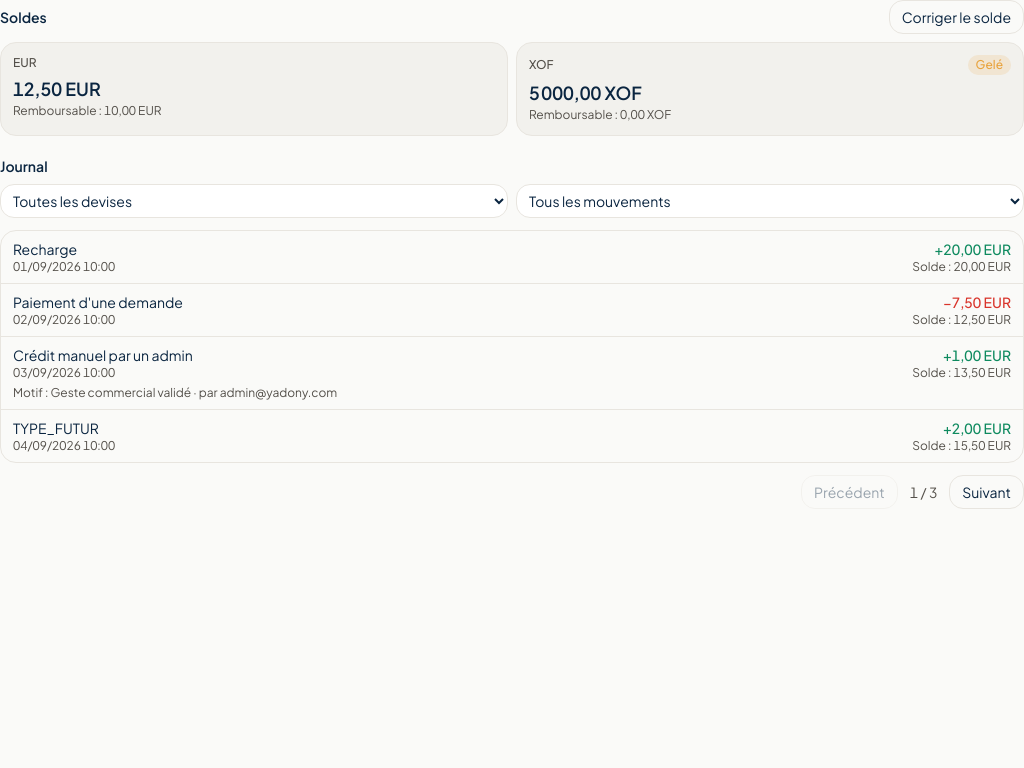
Scenario: UserWalletTab › refus 422 : le detail du back reste affiché dans le dialogue, rien n’est rafraîchi
The width and height of the screenshot is (1024, 768).
Click the button with test id "wallet-adjust-open". click: (956, 17)
box: [889,0,1023,34]
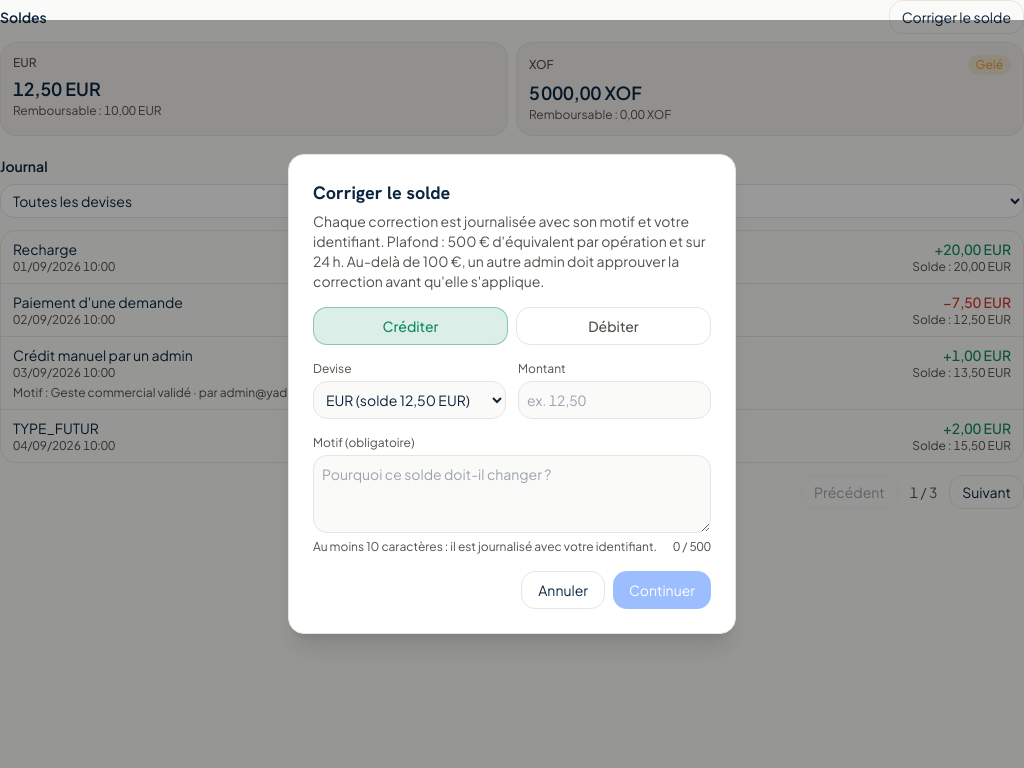
Type "5" into the field with test id "adj-amount". click: (614, 400)
box: [518,381,711,419]
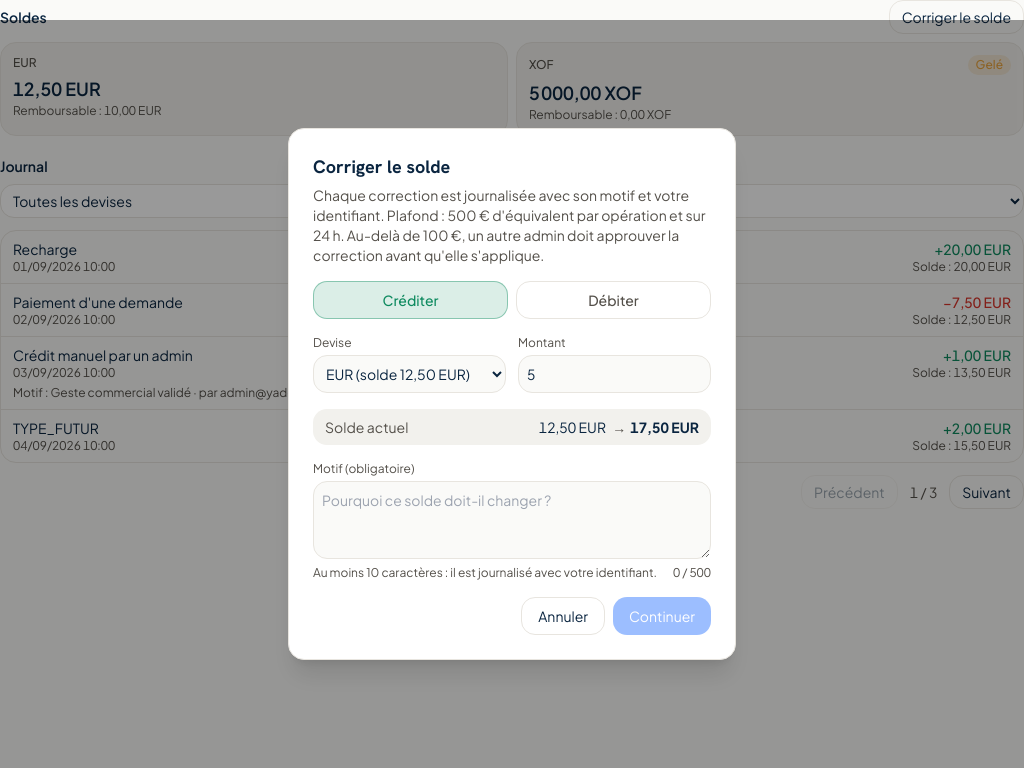
Type "Correction après double débit constaté" into the text box with test id "adj-reason". click: (512, 520)
box: [313,481,711,559]
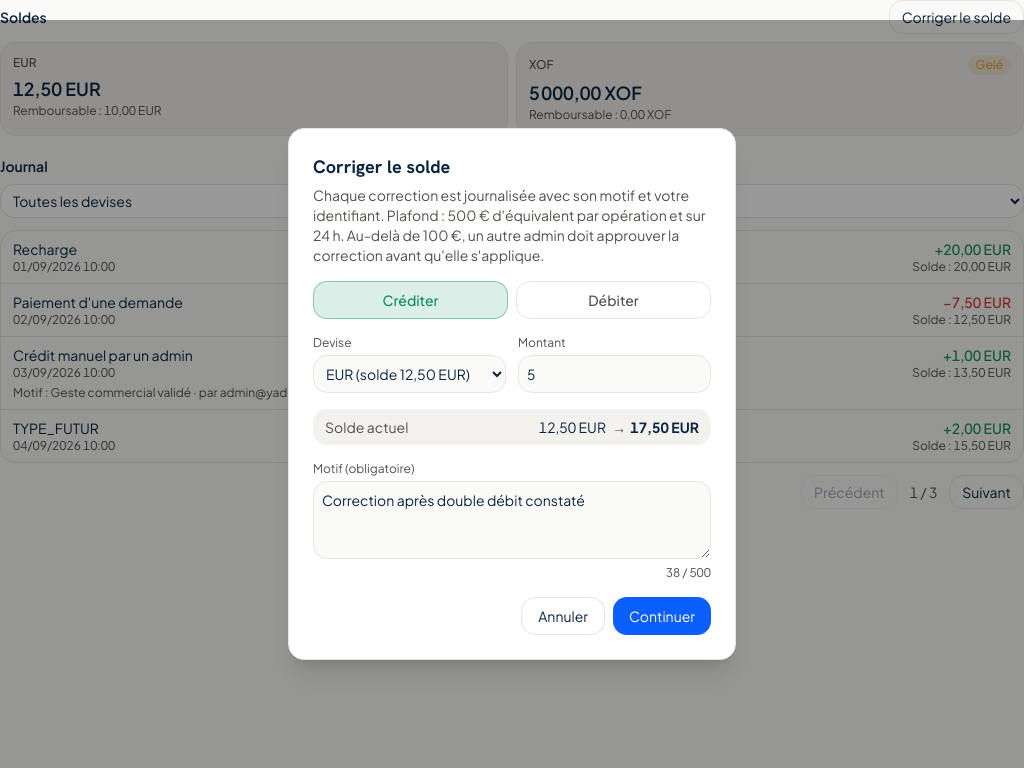
Click the button with test id "adj-continue". click: (662, 616)
box: [613,597,711,635]
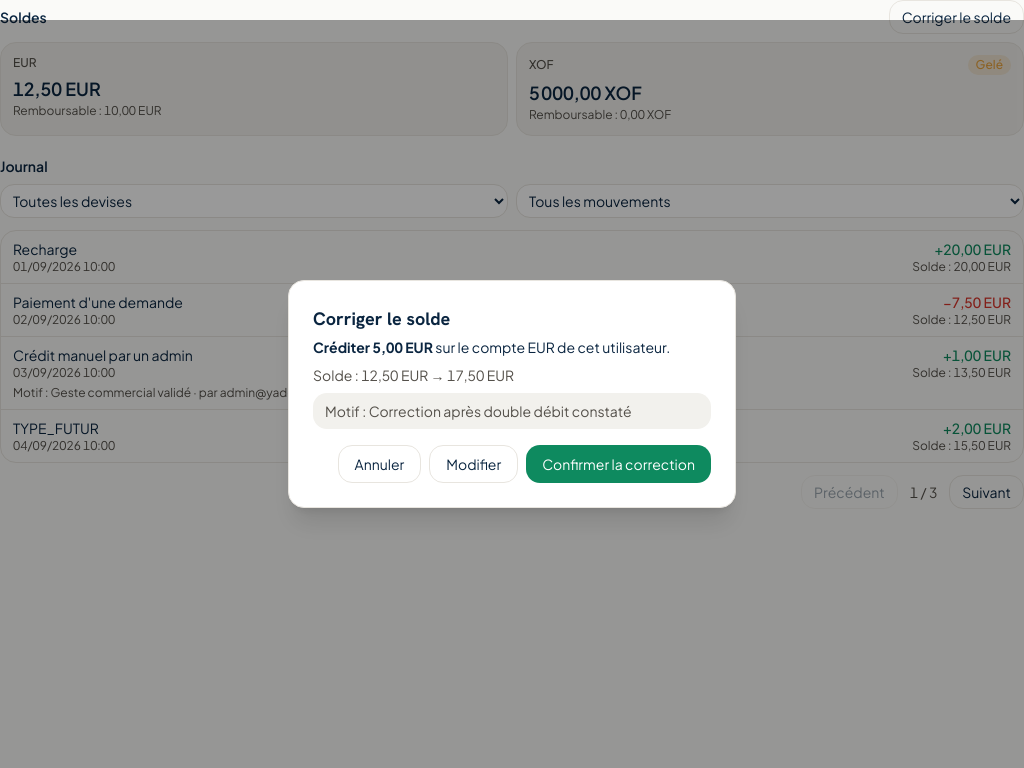
Click the button with test id "adj-confirm". click: (619, 464)
box: [526,445,711,483]
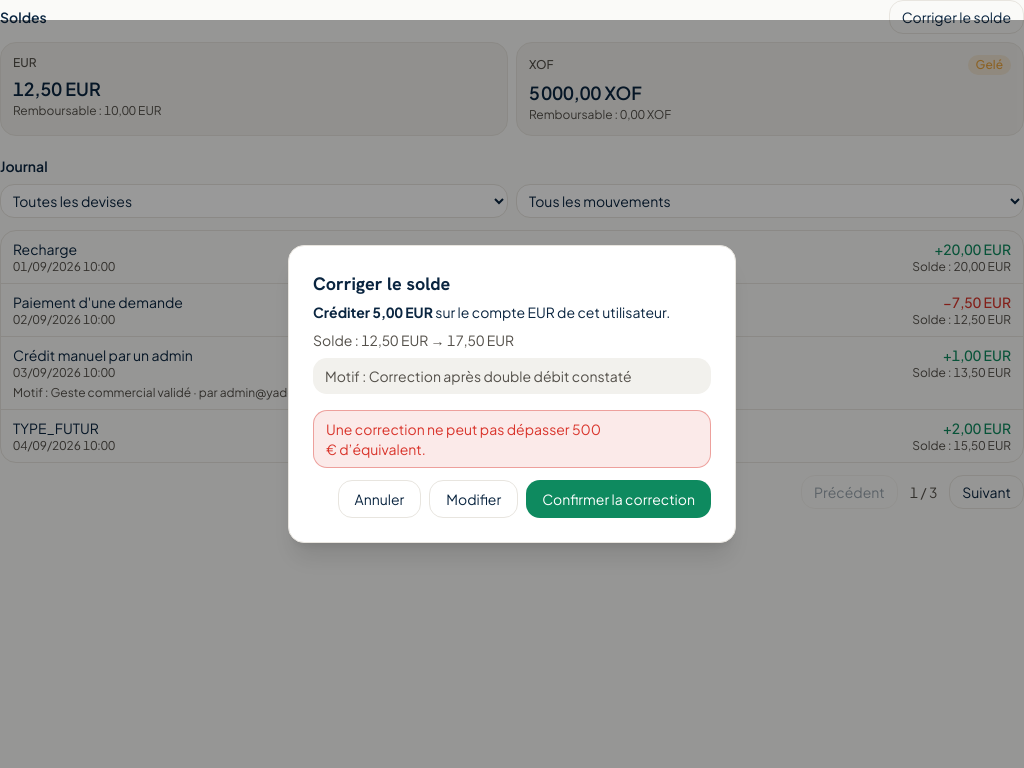
Check: the dialog with test id "adj-dialog" is shown, box [288,245,736,543]
Check: the button with test id "adj-error" reads "Une correction ne peut pas dépasser 500 € d’équivalent.", box [326,420,601,458]
